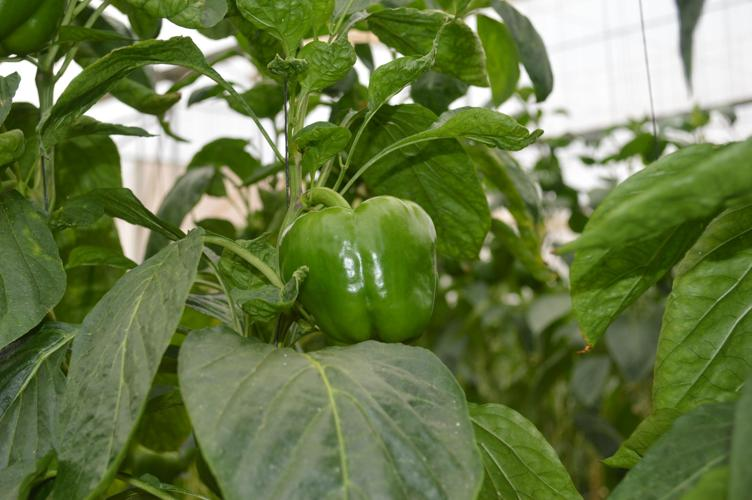BellPepper: (276, 195, 442, 342)
